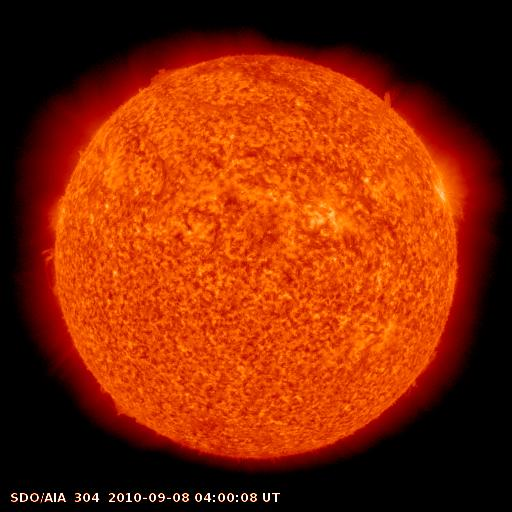prominence: (35, 242, 68, 302)
